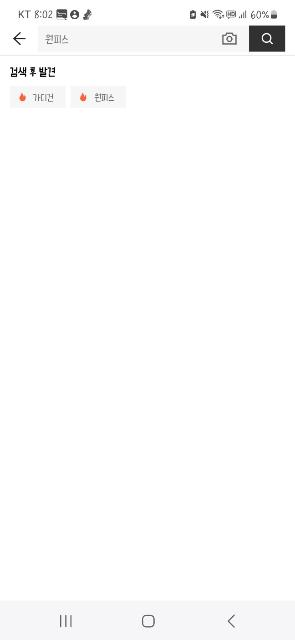EditText: (38, 26, 219, 50)
Icon: (12, 30, 26, 46), (223, 32, 237, 44), (262, 34, 274, 44)
Image: (20, 92, 26, 102), (80, 92, 86, 101)
ImageButton: (250, 26, 284, 50)
Text: (11, 66, 55, 78), (46, 34, 68, 44), (96, 92, 114, 102), (34, 94, 54, 102)
TextImageButton: (9, 84, 64, 108), (72, 86, 126, 106)
Toolbar: (0, 23, 295, 55)
UpperTaskBar: (0, 0, 295, 22)
